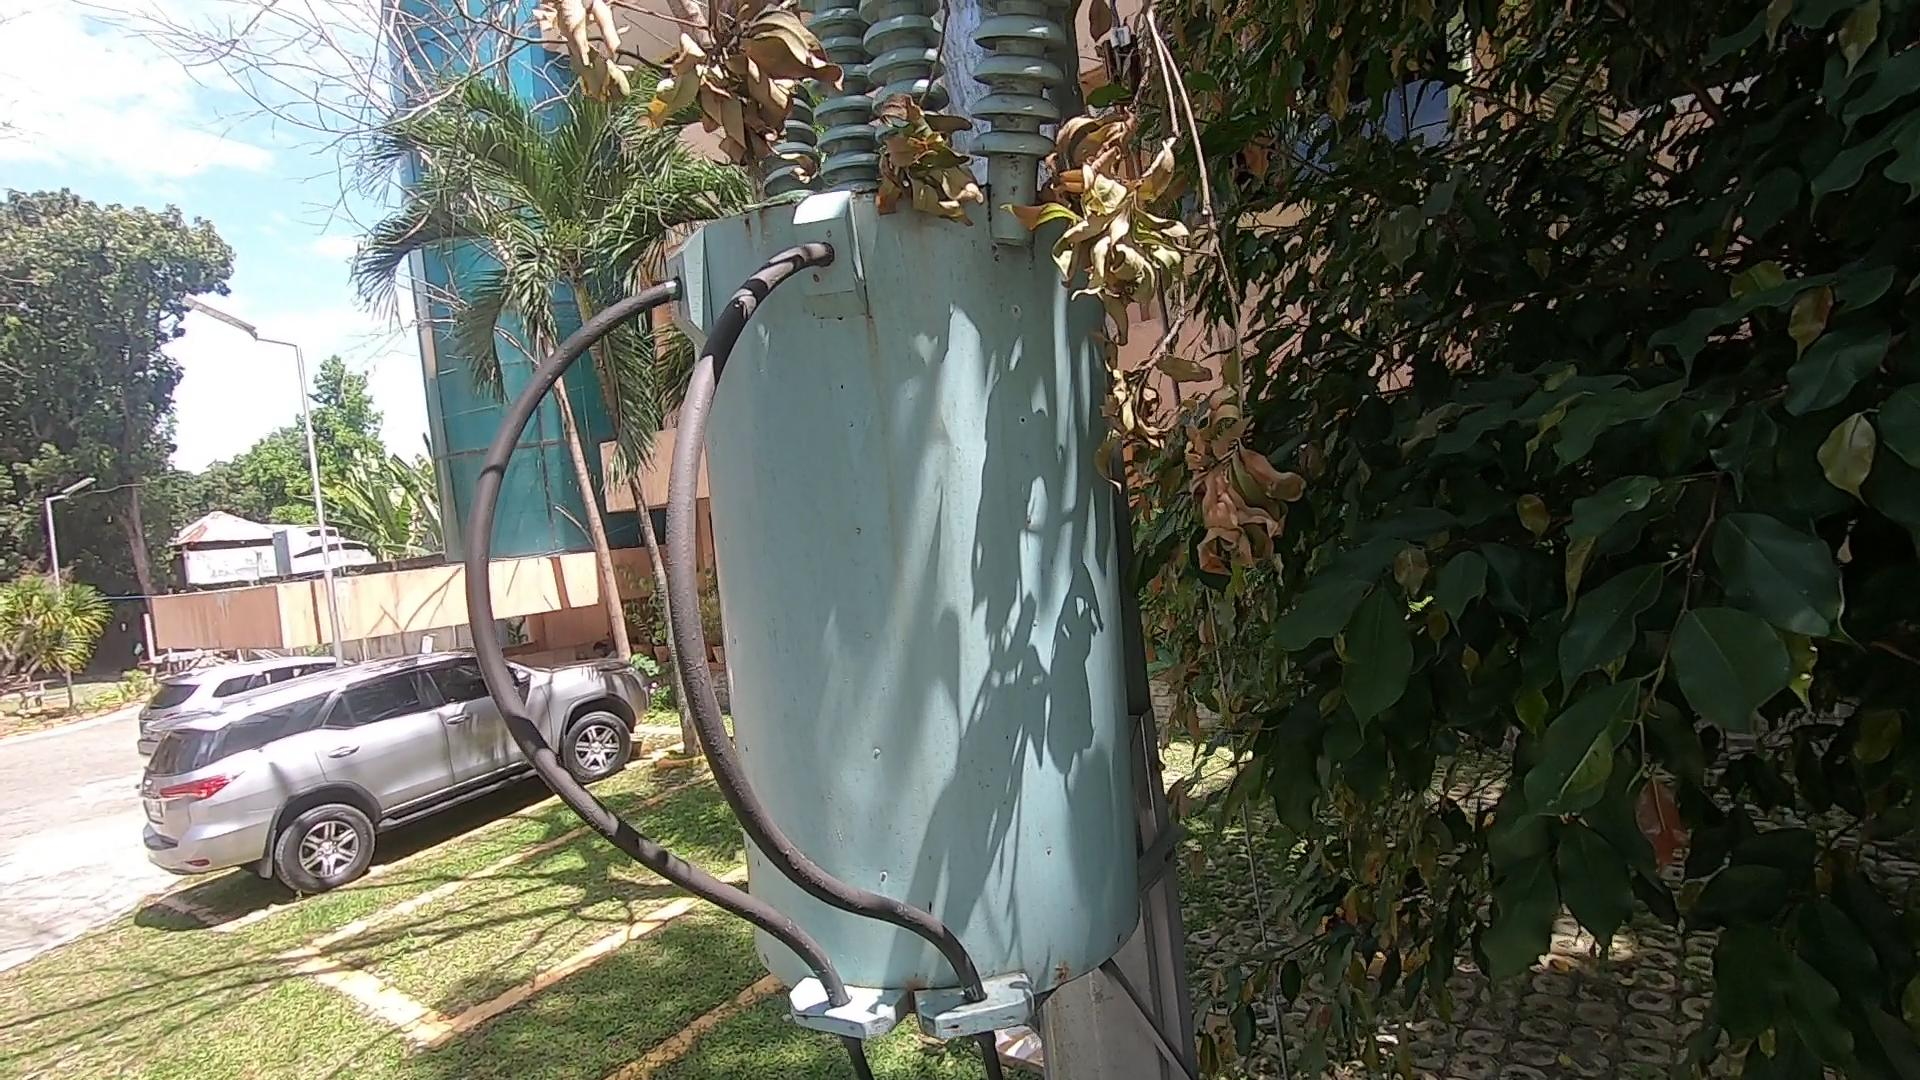branch with leaves: (1015, 1, 1286, 596), (568, 1, 837, 165), (861, 5, 1000, 247), (750, 185, 825, 207)
